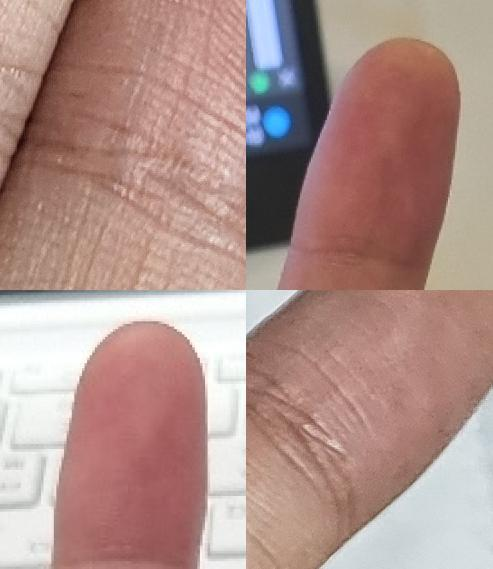Fingerprints: (246, 290, 493, 537), (52, 321, 207, 569), (298, 36, 460, 265)
